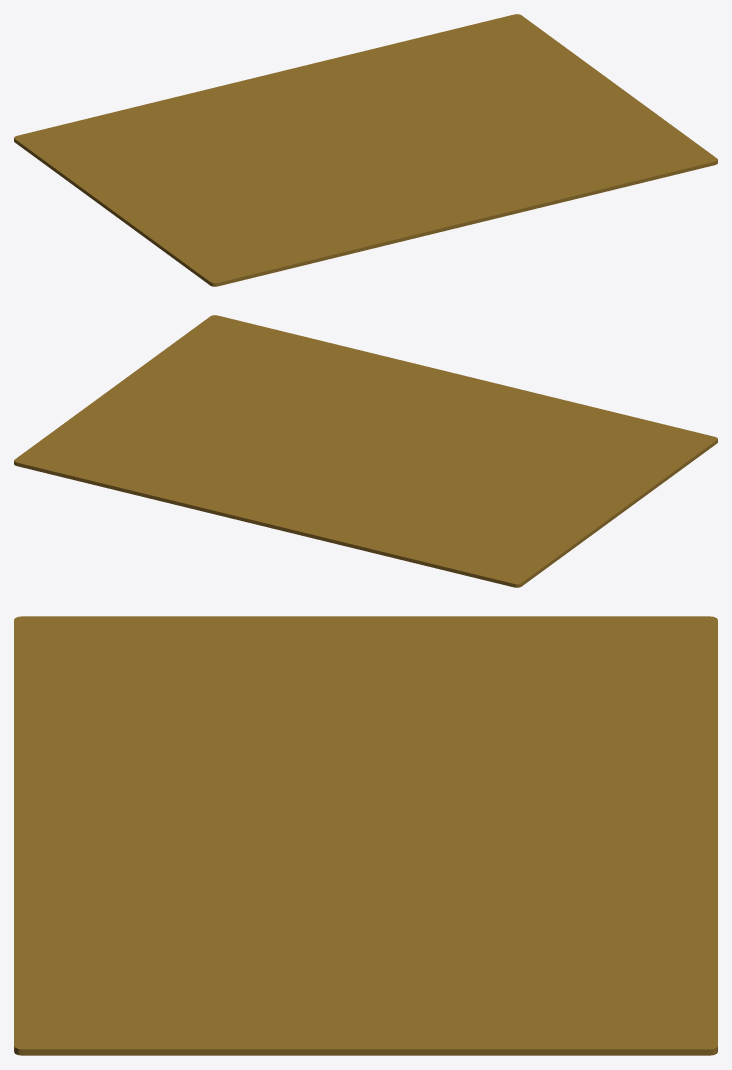
The model's file is CardV1.fbx.
The picture shows the model from 3 angles, top to bottom: view 1: azimuth 30°, elevation 25°; view 2: azimuth 150°, elevation 25°; view 3: azimuth 270°, elevation 25°; orthographic projection. The views are drawn at different scales.
Visible parts, largest first — view 1: Card; view 2: Card; view 3: Card.
Boxes of the visible parts, x1,y1,x2,y2 form: Card: (14, 14, 717, 286); Card: (14, 315, 717, 587); Card: (14, 616, 717, 1055).
Size of the model in its own units: 0.9354 by 0.00628 by 0.6425.
